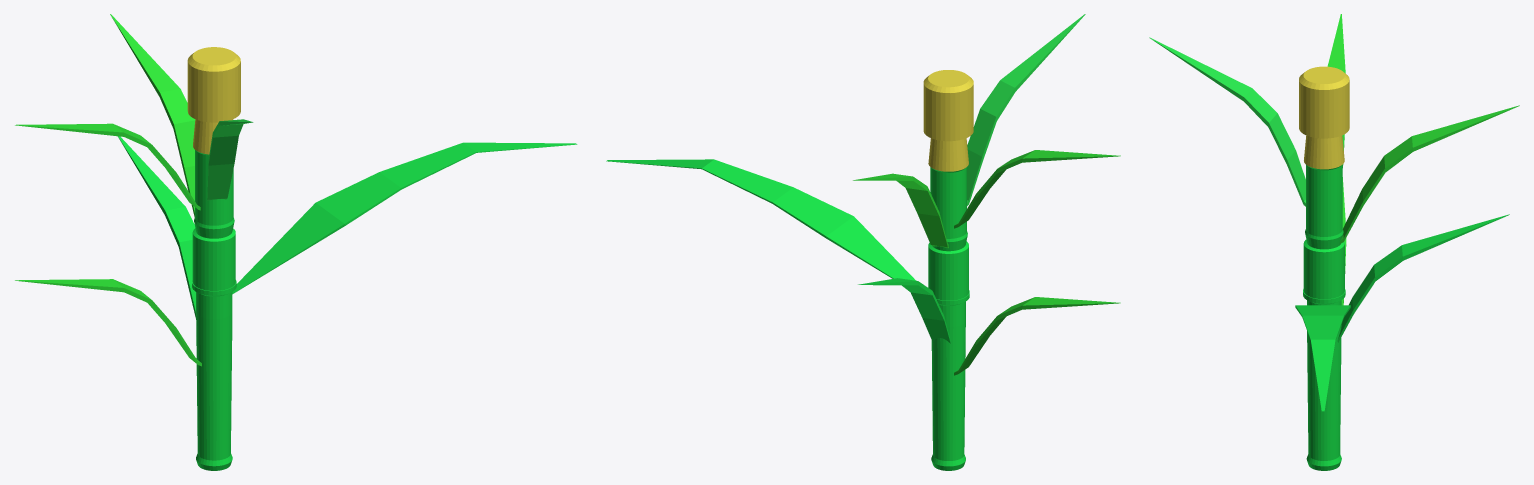
The model's file is palay.fbx.
3 renders of one model, left to right at view 1: azimuth 30°, elevation 25°; view 2: azimuth 150°, elevation 25°; view 3: azimuth 270°, elevation 25°, orthographic. The views are drawn at different scales.
Parts seen in each view (by area): view 1: Cube.004; view 2: Cube.004; view 3: Cube.004.
Boxes of the visible parts, x1,y1,x2,y2 form: Cube.004: (15, 14, 577, 470); Cube.004: (606, 14, 1120, 470); Cube.004: (1149, 14, 1519, 470).
Bounding box in the file's own units: 453 × 330 × 275.
